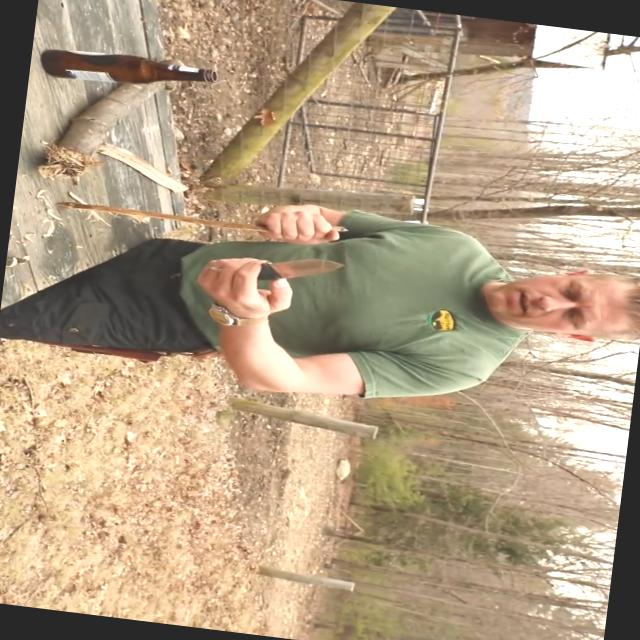knife: (193, 234, 357, 316)
